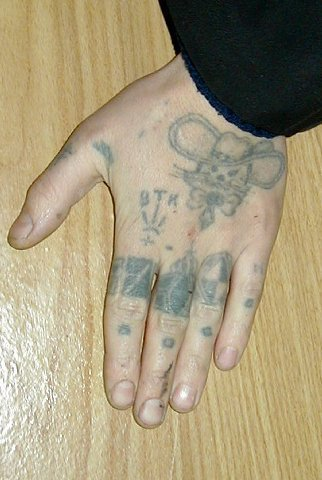tatu3_bukva: (134, 186, 182, 209)
tatu8_kot: (167, 108, 287, 230)
